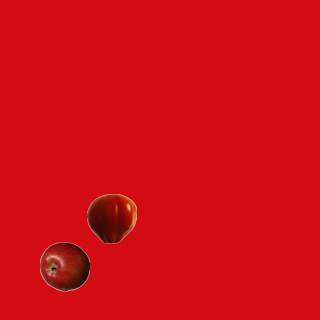Apple Braeburn: (39, 241, 89, 291)
Tomato 1: (86, 193, 136, 243)
